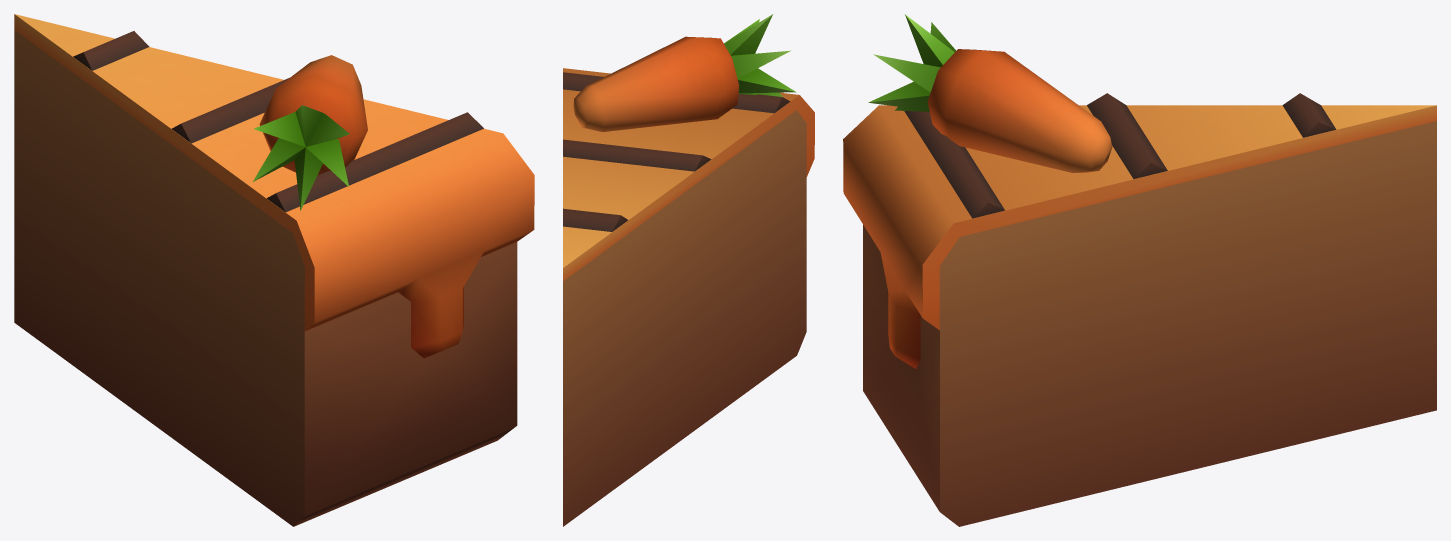
Rendered from m_CarrotCake01_Slice03.fbx.
The picture shows the model from 3 angles, left to right: view 1: azimuth 30°, elevation 25°; view 2: azimuth 150°, elevation 25°; view 3: azimuth 270°, elevation 25°; orthographic projection. The views are drawn at different scales.
Visible parts, largest first — view 1: m_CarrotCake01_Slice03; view 2: m_CarrotCake01_Slice03; view 3: m_CarrotCake01_Slice03.
Boxes of the visible parts, <box> form: m_CarrotCake01_Slice03: <box>14,14,534,526</box>; m_CarrotCake01_Slice03: <box>563,14,814,526</box>; m_CarrotCake01_Slice03: <box>843,14,1436,526</box>.
Bounding box in the file's own units: 7.81 × 10.91 × 14.48.
